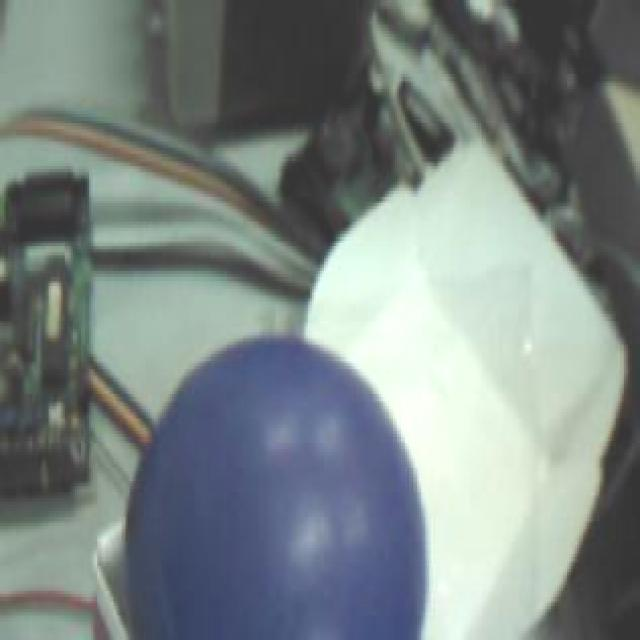BallPurple: (124, 334, 426, 640)
